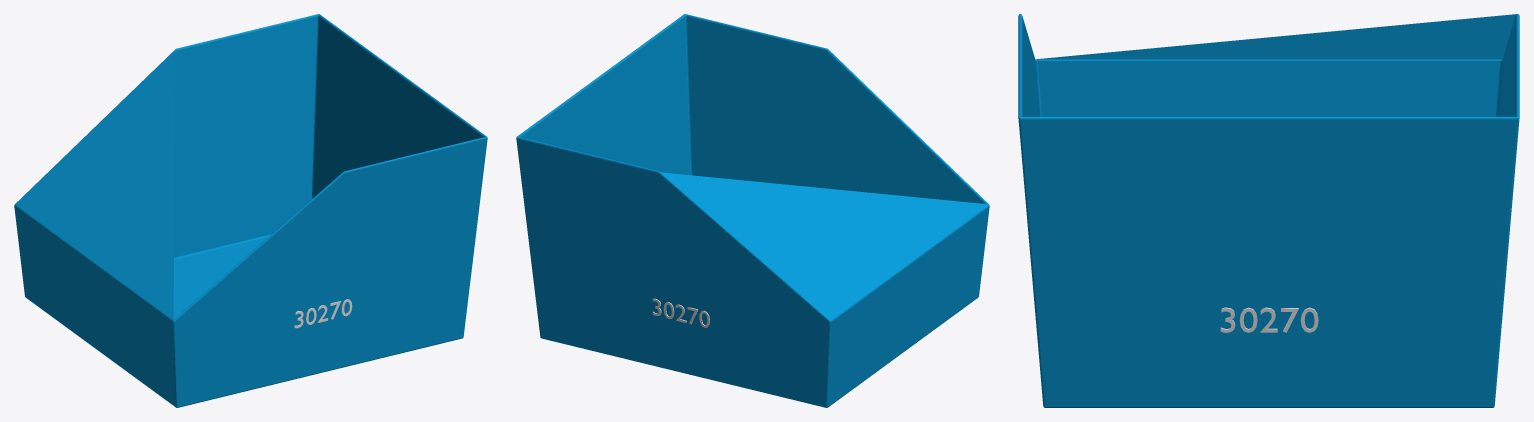
3 renders of one model, left to right at view 1: azimuth 30°, elevation 25°; view 2: azimuth 150°, elevation 25°; view 3: azimuth 270°, elevation 25°, orthographic. The views are drawn at different scales.
Visible parts, largest first — view 1: us-picking-bin-30270; view 2: us-picking-bin-30270; view 3: us-picking-bin-30270.
Part boxes in pixels (x1,y1,x2,y2): us-picking-bin-30270: (14, 14, 487, 407); us-picking-bin-30270: (516, 14, 989, 407); us-picking-bin-30270: (1018, 14, 1519, 407).
Bounding box in the file's own units: 0.4441 × 0.279 × 0.4188.
